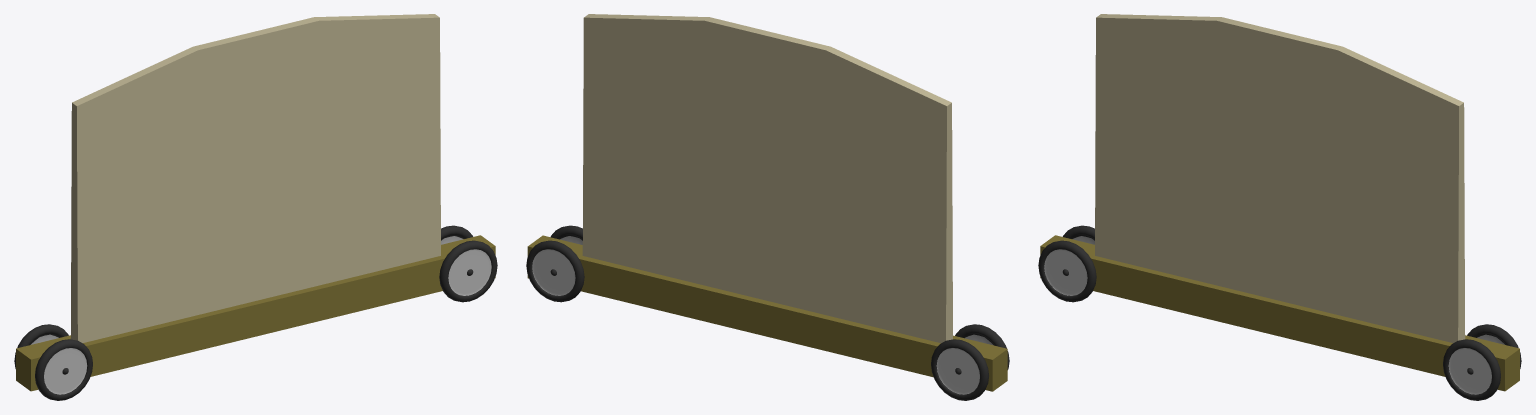
File: Proto_Cutout_02.fbx
3 views of the same model, side by side, from view 1: azimuth 30°, elevation 25°; view 2: azimuth 150°, elevation 25°; view 3: azimuth 330°, elevation 25° (orthographic).
Visible parts, largest first — view 1: Proto_Cutout_02; view 2: Proto_Cutout_02; view 3: Proto_Cutout_02.
Part boxes in pixels (x1,y1,x2,y2): Proto_Cutout_02: (14, 14, 497, 400); Proto_Cutout_02: (526, 14, 1009, 400); Proto_Cutout_02: (1038, 14, 1521, 400).
Size of the model in its own units: 23.37 by 14.86 by 2.29.
